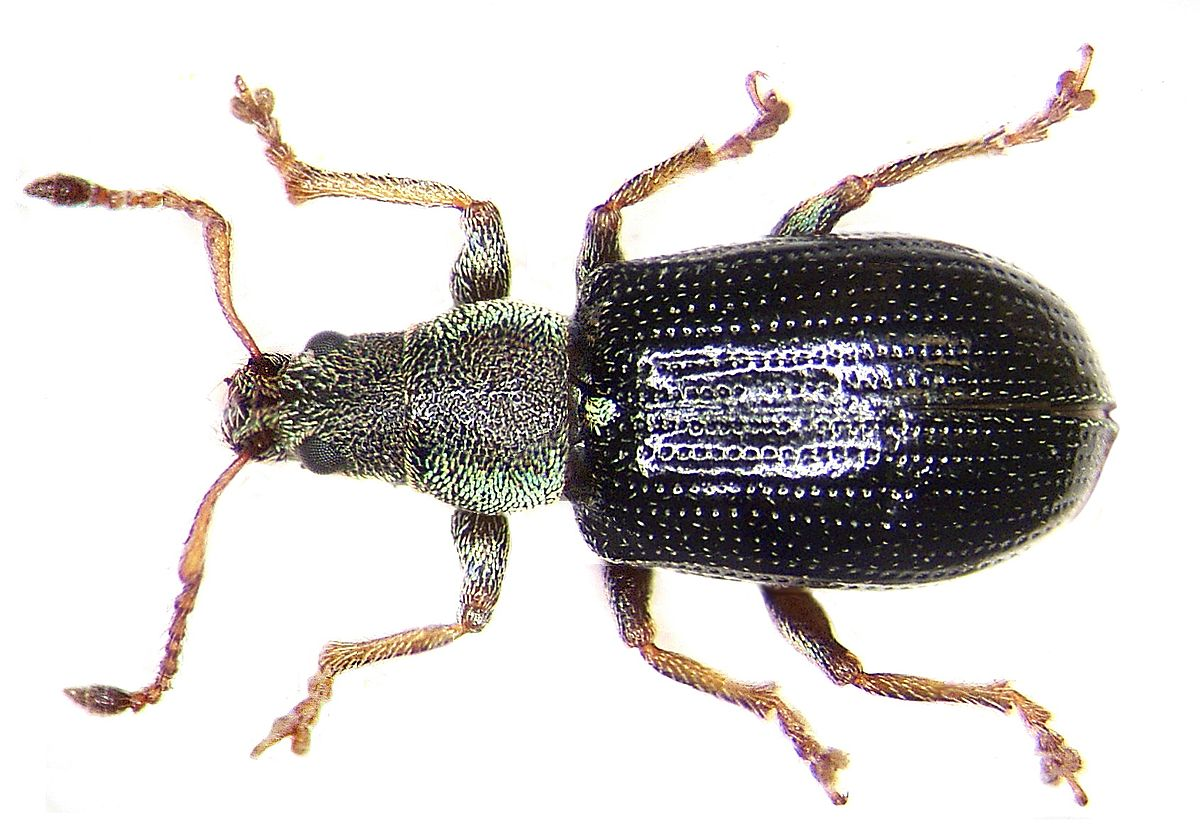dolgonosik: (21, 79, 1114, 798)
